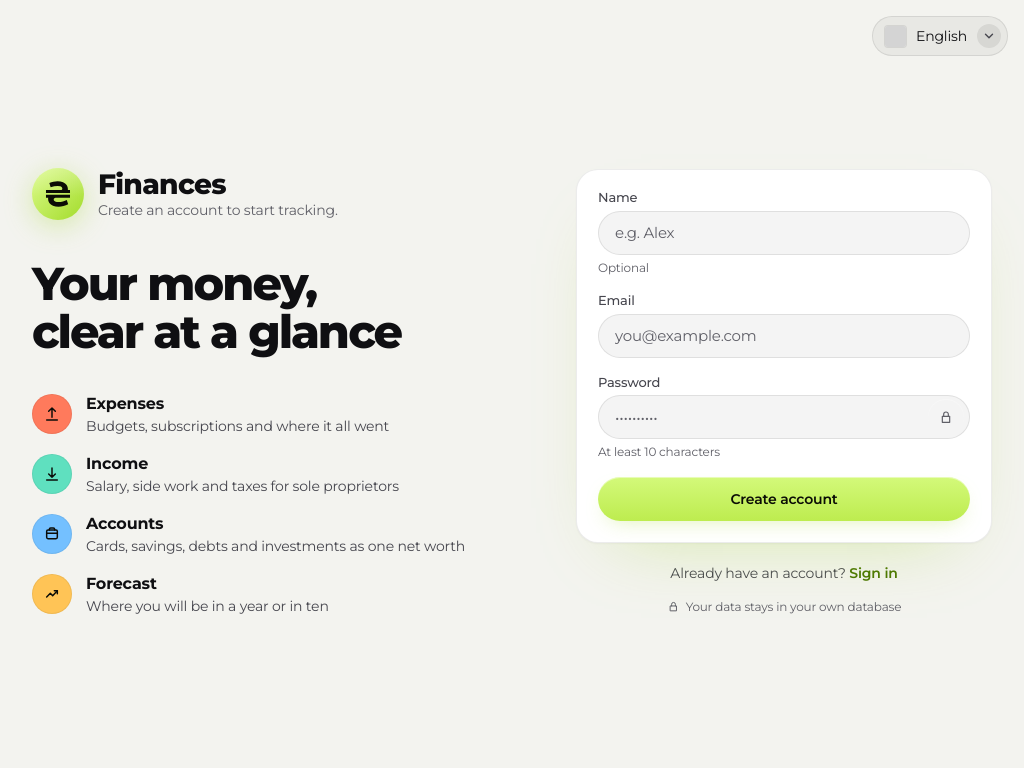
Test: SignInPage › shows why an account could not be created, in the page language
The image size is (1024, 768).
Type "me@example.com" into the field with placeholder "you@example.com" at x=784, y=336, box [598,314,970,358]
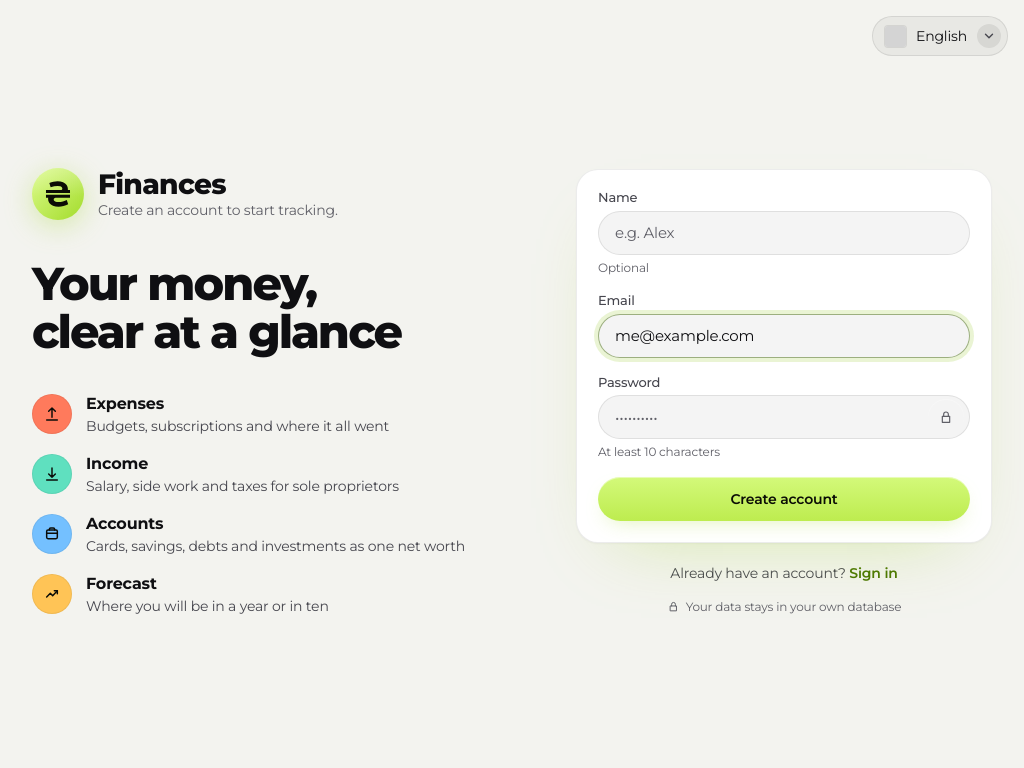
Type "Long-enough-pass-42" into the password field with placeholder "••••••••••" at x=784, y=417, box [598,395,970,439]
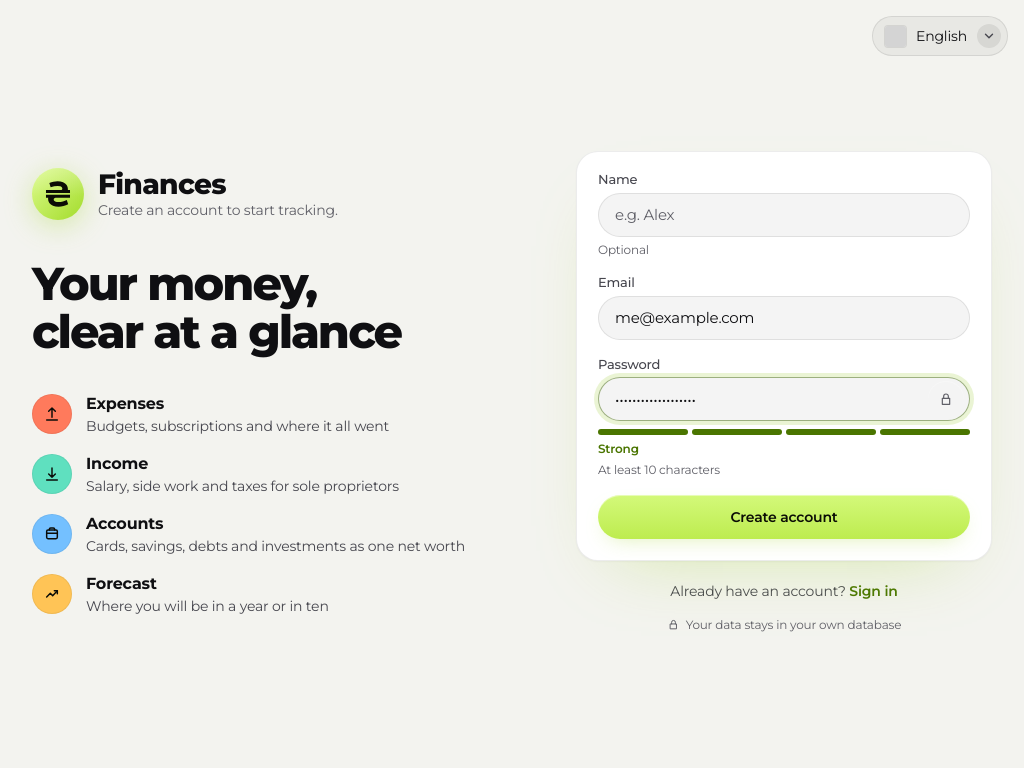
Click the button "Create account" at x=784, y=517, box [598,495,970,539]
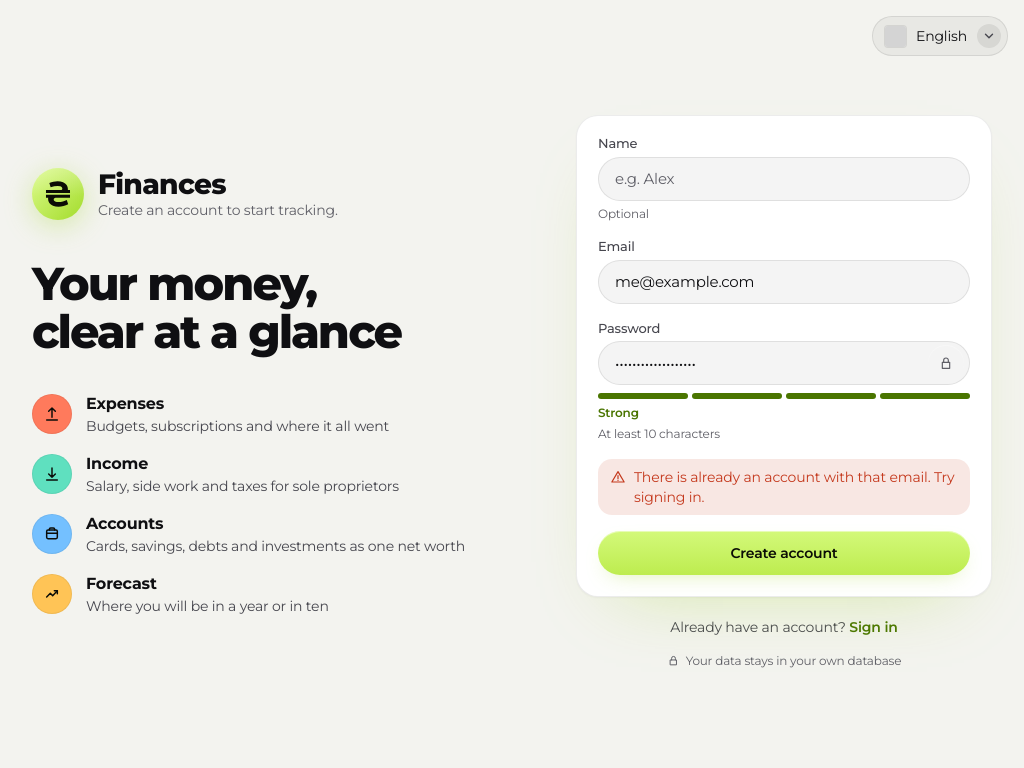
Expected: the text "There is already an account with that email. Try signing in." is shown, [598,459,970,515]
